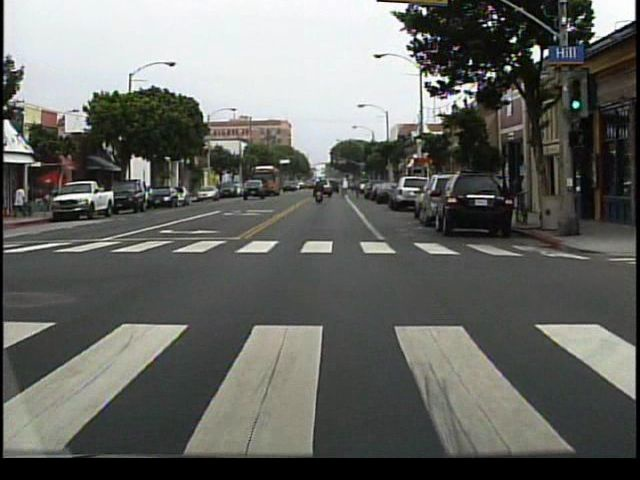person: (14, 183, 30, 220), (313, 180, 327, 207)
